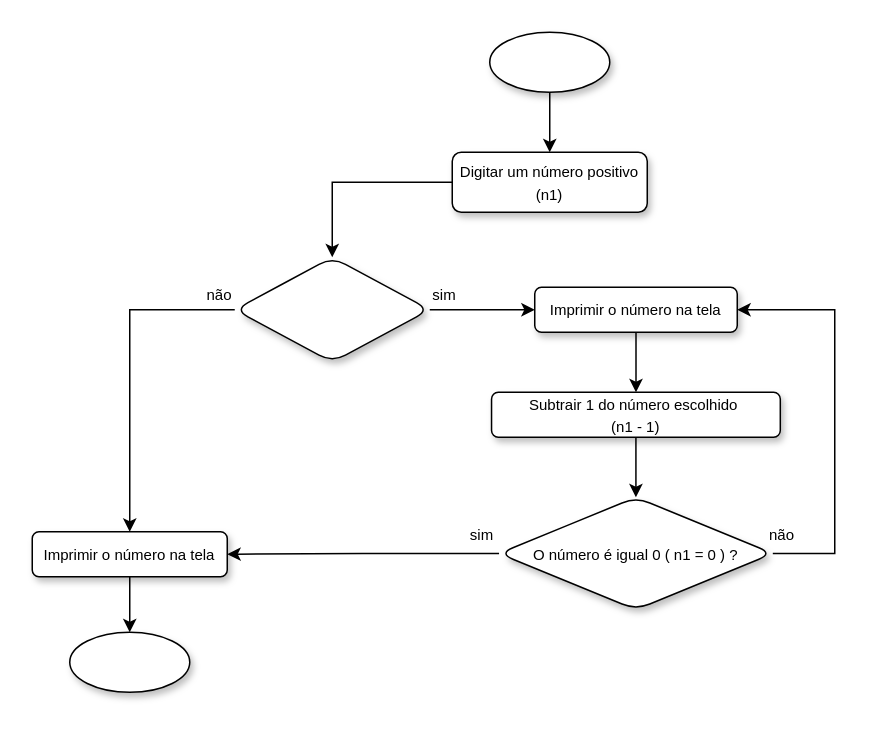
This 873x729 diagram has some shape labels left out. Here are the shapes that lost their labels. From the top down, the centre of each, then its label:
At point 550,64: "Inicio".
At point 333,311: "Esse número é > 0 ?".
At point 130,664: "Fim.".
